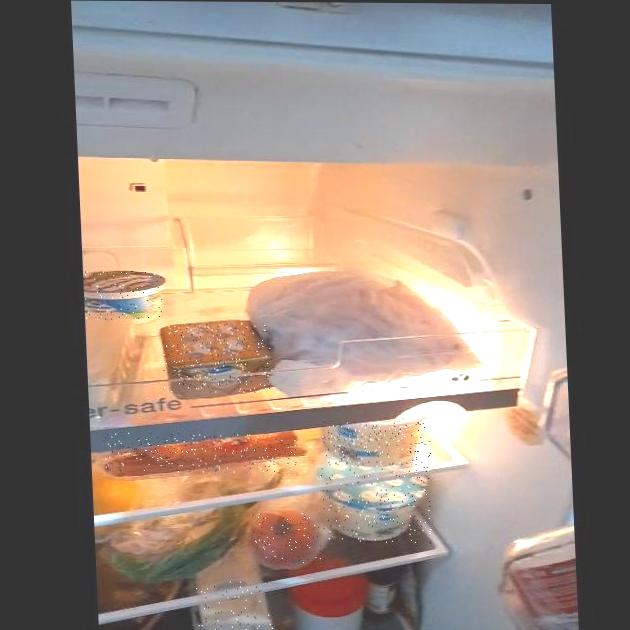butter: (160, 321, 274, 393)
carrot: (104, 433, 297, 473)
green chilies: (106, 522, 238, 580)
milk: (194, 581, 274, 630)
tomato: (250, 513, 323, 563)
yoghurt: (320, 468, 432, 543), (321, 421, 433, 468), (84, 271, 164, 320)
